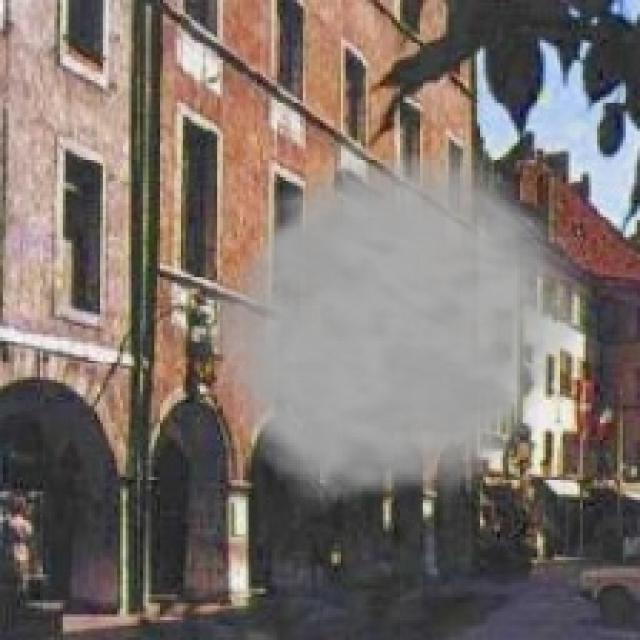Smoke: (191, 140, 603, 520)
